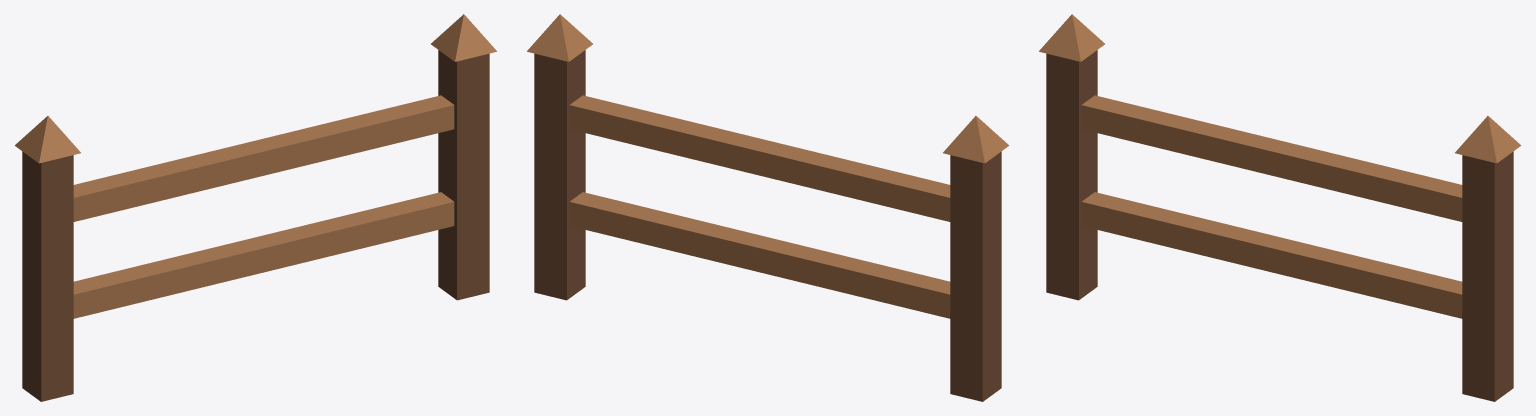
The model's file is plot.glb.
3 renders of one model, left to right at view 1: azimuth 30°, elevation 25°; view 2: azimuth 150°, elevation 25°; view 3: azimuth 330°, elevation 25°, orthographic.
Visible parts, largest first — view 1: material_ad7950, material_785239; view 2: material_ad7950, material_785239; view 3: material_ad7950, material_785239.
Boxes of the visible parts, box(x1,y1,x2,y2) form: material_ad7950: box(15, 14, 496, 318); material_785239: box(22, 50, 489, 401); material_ad7950: box(527, 14, 1008, 318); material_785239: box(534, 50, 1001, 401); material_ad7950: box(1039, 14, 1520, 318); material_785239: box(1046, 50, 1513, 401).
Size of the model in its own units: 1.98 by 1.14 by 0.1838.
